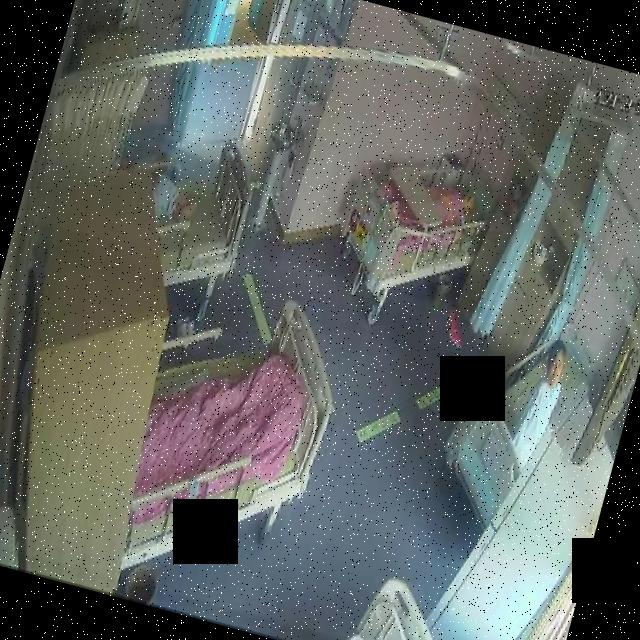bed: (114, 272, 357, 575), (308, 118, 506, 340), (426, 318, 592, 546), (130, 123, 266, 303)
patient: (496, 335, 580, 478)
